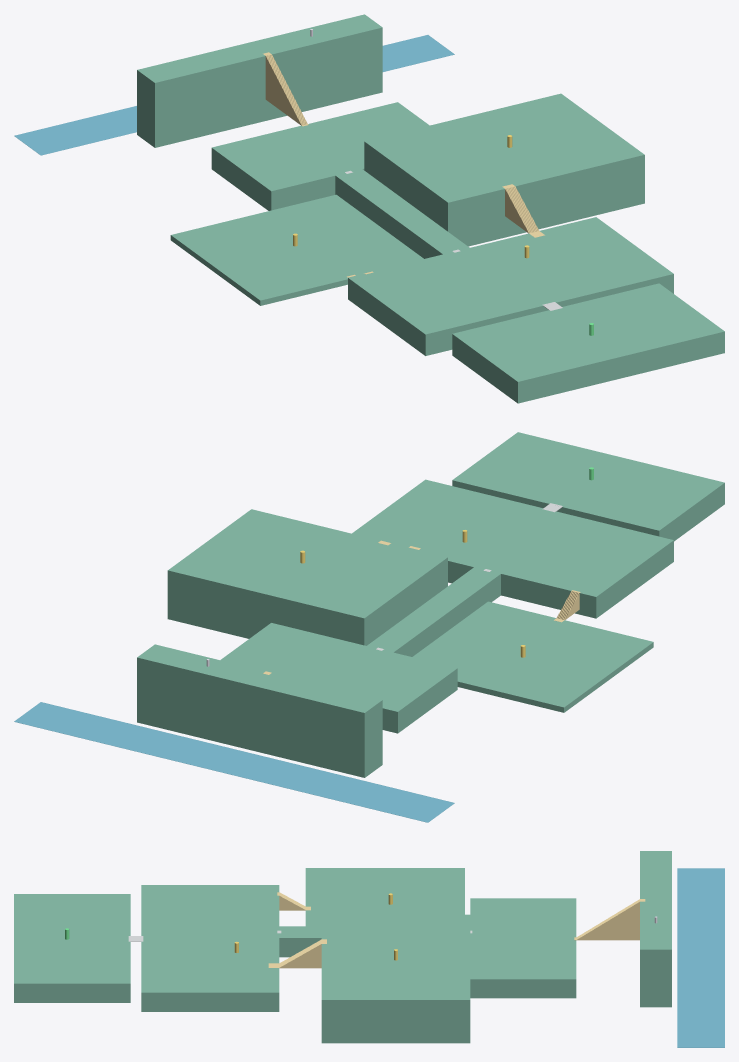
Rendered from greybox.glb.
The picture shows the model from 3 angles, top to bottom: view 1: azimuth 30°, elevation 25°; view 2: azimuth 150°, elevation 25°; view 3: azimuth 270°, elevation 25°; orthographic projection. The views are drawn at different scales.
Parts seen in each view (by area): view 1: ZONE_citadel, ZONE_drill, ZONE_camp, ZONE_wall, ZONE_caldera, ZONE_gatecourt, ZONE_road, WATER_熔岩河（關前）, LINK_wall-stair, LINK_citadel-stair; view 2: ZONE_citadel, ZONE_drill, ZONE_wall, ZONE_camp, ZONE_caldera, ZONE_gatecourt, WATER_熔岩河（關前）, ZONE_road; view 3: ZONE_citadel, ZONE_drill, ZONE_camp, ZONE_gatecourt, WATER_熔岩河（關前）, ZONE_caldera, ZONE_wall, LINK_wall-stair, ZONE_road, LINK_citadel-stair, LINK_caldera-stair.
Boxes of the visible parts, x1,y1,x2,y2 form: ZONE_citadel: (364, 93, 644, 246); ZONE_drill: (348, 217, 673, 355); ZONE_camp: (452, 283, 724, 403); ZONE_wall: (137, 14, 382, 147); ZONE_caldera: (170, 194, 423, 305); ZONE_gatecourt: (211, 102, 429, 210); ZONE_road: (335, 169, 469, 258); WATER_熔岩河（關前）: (14, 35, 454, 155); LINK_wall-stair: (263, 52, 308, 126); LINK_citadel-stair: (502, 184, 544, 237); ZONE_citadel: (167, 509, 447, 645); ZONE_drill: (352, 479, 673, 618); ZONE_wall: (137, 644, 382, 777); ZONE_camp: (452, 432, 724, 541); ZONE_caldera: (412, 601, 653, 712); ZONE_gatecourt: (220, 623, 457, 733); WATER_熔岩河（關前）: (14, 702, 454, 822); ZONE_road: (367, 567, 500, 656); ZONE_citadel: (321, 914, 470, 1043); ZONE_drill: (141, 885, 279, 1011); ZONE_camp: (14, 894, 130, 1002); ZONE_gatecourt: (470, 898, 576, 998); WATER_熔岩河（關前）: (677, 868, 724, 1047); ZONE_caldera: (305, 868, 464, 926); ZONE_wall: (640, 851, 671, 1007); LINK_wall-stair: (574, 899, 645, 940); ZONE_road: (279, 926, 321, 957); LINK_citadel-stair: (268, 939, 326, 968); LINK_caldera-stair: (277, 892, 310, 910).
Bounding box in the file's own units: 400 × 66.2 × 670.
